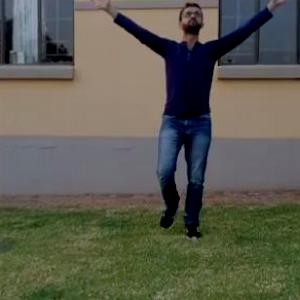takeoff: (75, 0, 299, 247)
